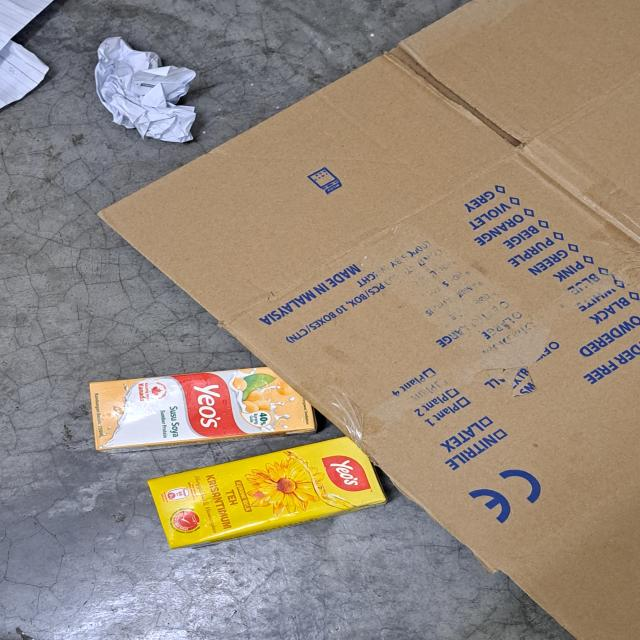cardboard: (96, 0, 640, 640)
drink carton: (145, 436, 388, 550), (89, 367, 317, 453)
paper: (92, 35, 202, 144), (0, 0, 54, 108)
